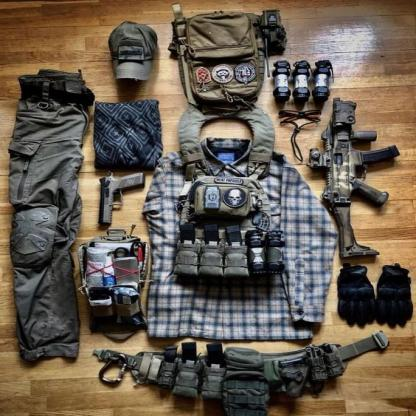Grenade: (266, 226, 287, 274), (245, 227, 266, 274), (313, 58, 335, 101), (292, 59, 312, 101), (273, 59, 292, 101)
Gun: (308, 95, 400, 259)
Pistol: (98, 169, 146, 228)
